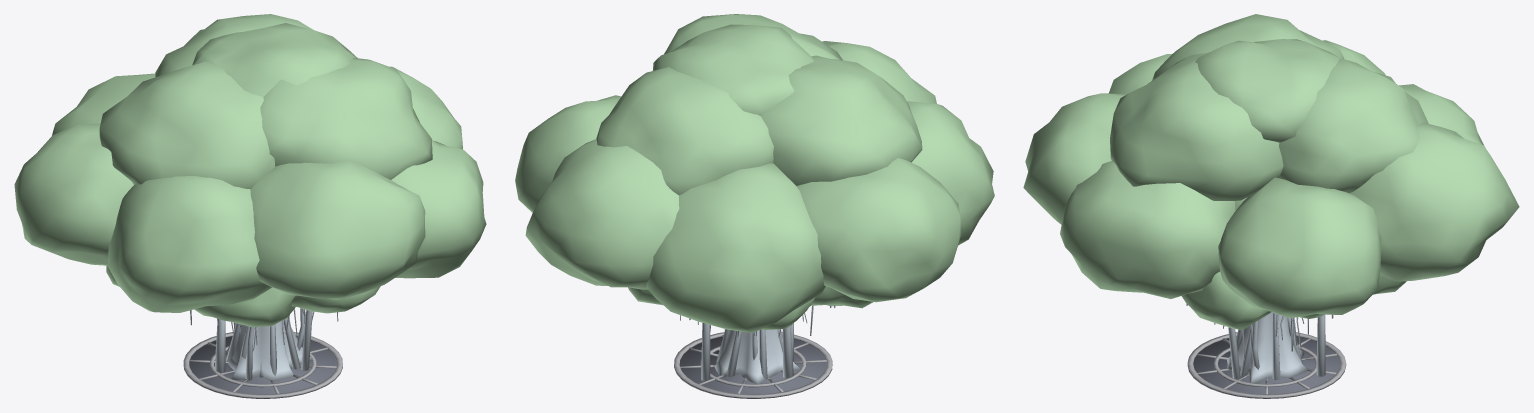
The model's file is sq-banyan.glb.
3 views of the same model, side by side, from view 1: azimuth 30°, elevation 25°; view 2: azimuth 150°, elevation 25°; view 3: azimuth 270°, elevation 25° (orthographic).
Visible parts, largest first — view 1: banyanL, banyanM; view 2: banyanL, banyanM; view 3: banyanL, banyanM.
Part boxes in pixels (x1=…): banyanL: x1=14, y1=14, x2=486, y2=398; banyanM: x1=106, y1=265, x2=380, y2=387; banyanL: x1=515, y1=14, x2=994, y2=398; banyanM: x1=628, y1=286, x2=873, y2=387; banyanL: x1=1023, y1=14, x2=1519, y2=398; banyanM: x1=1181, y1=197, x2=1406, y2=387.
Size of the model in its own units: 12.37 by 9.01 by 12.5.
